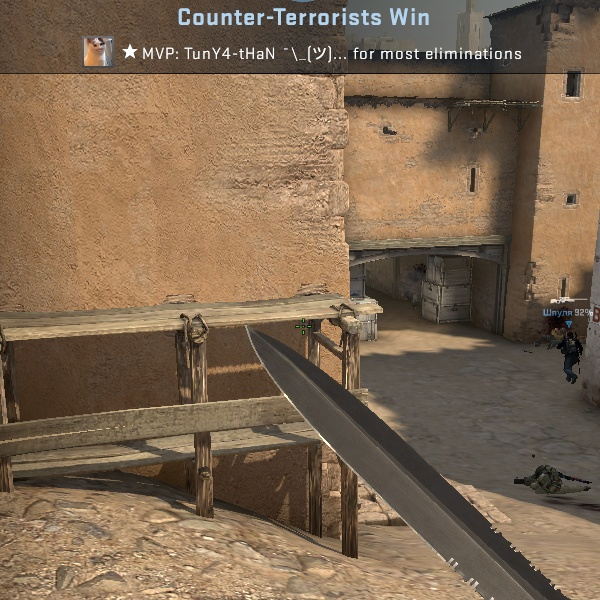ct_body: (555, 329, 584, 386)
ct_head: (566, 331, 575, 340)
